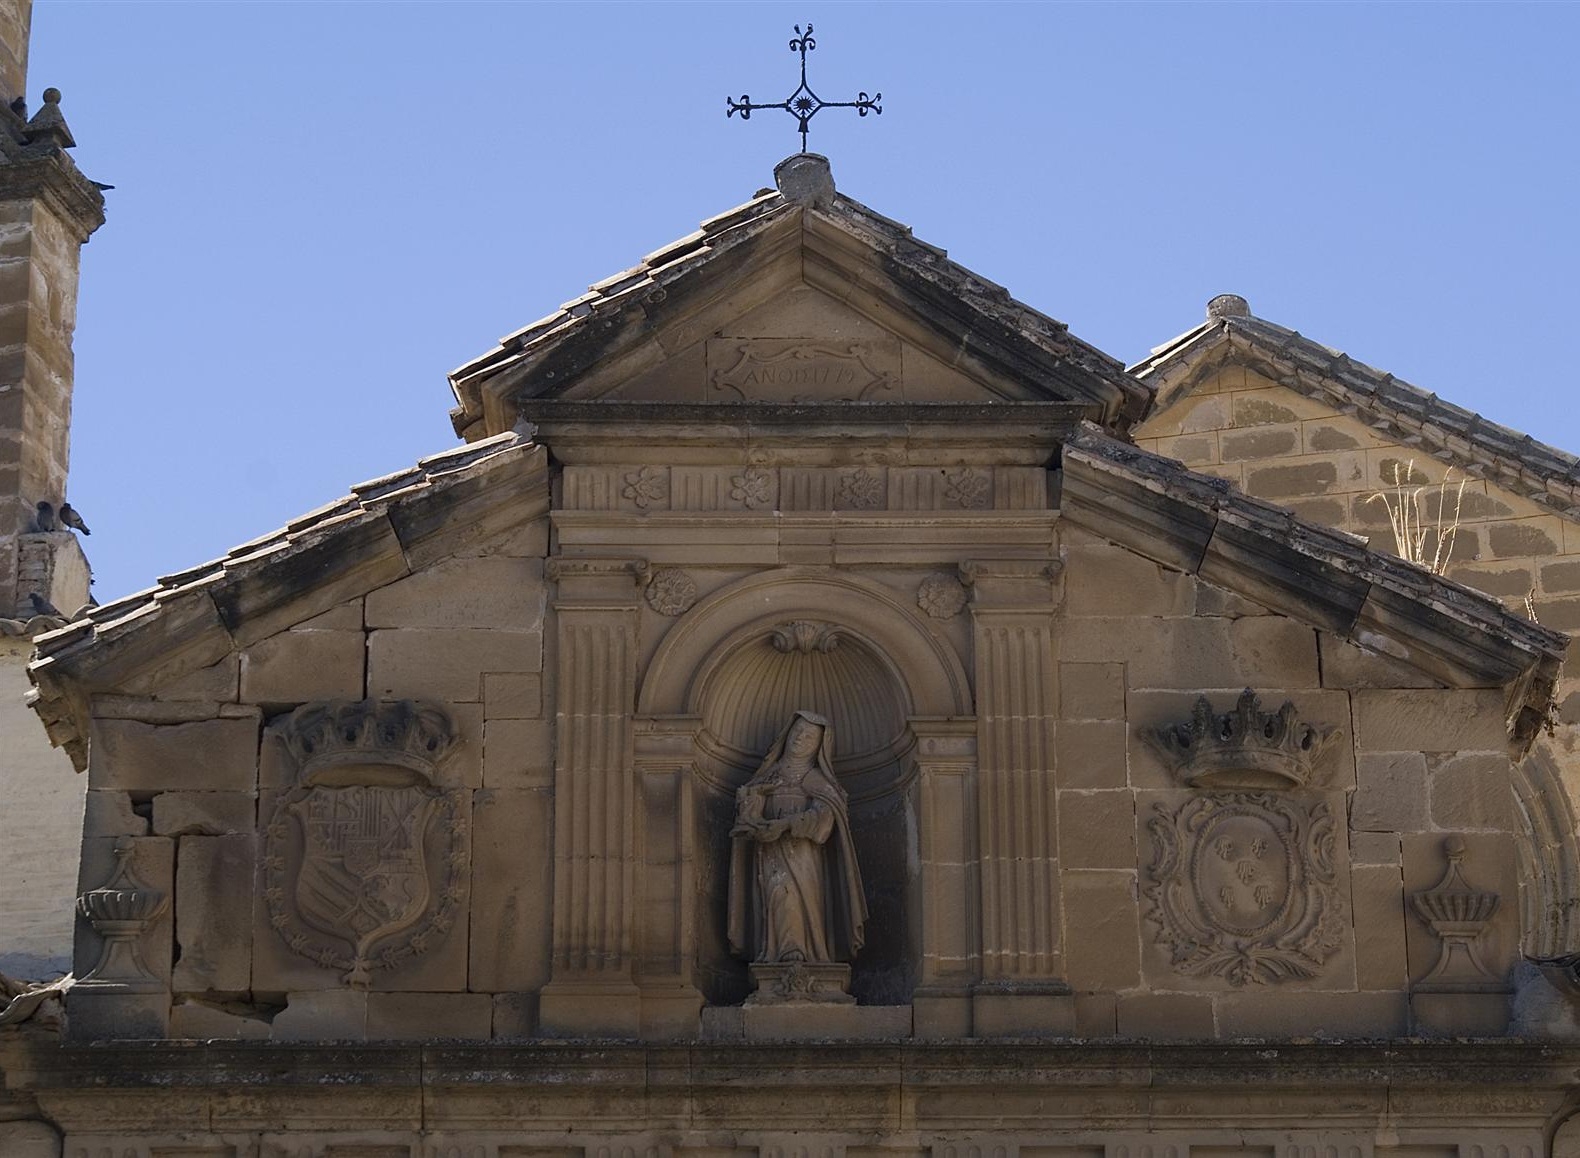fronton: (476, 200, 1132, 427)
